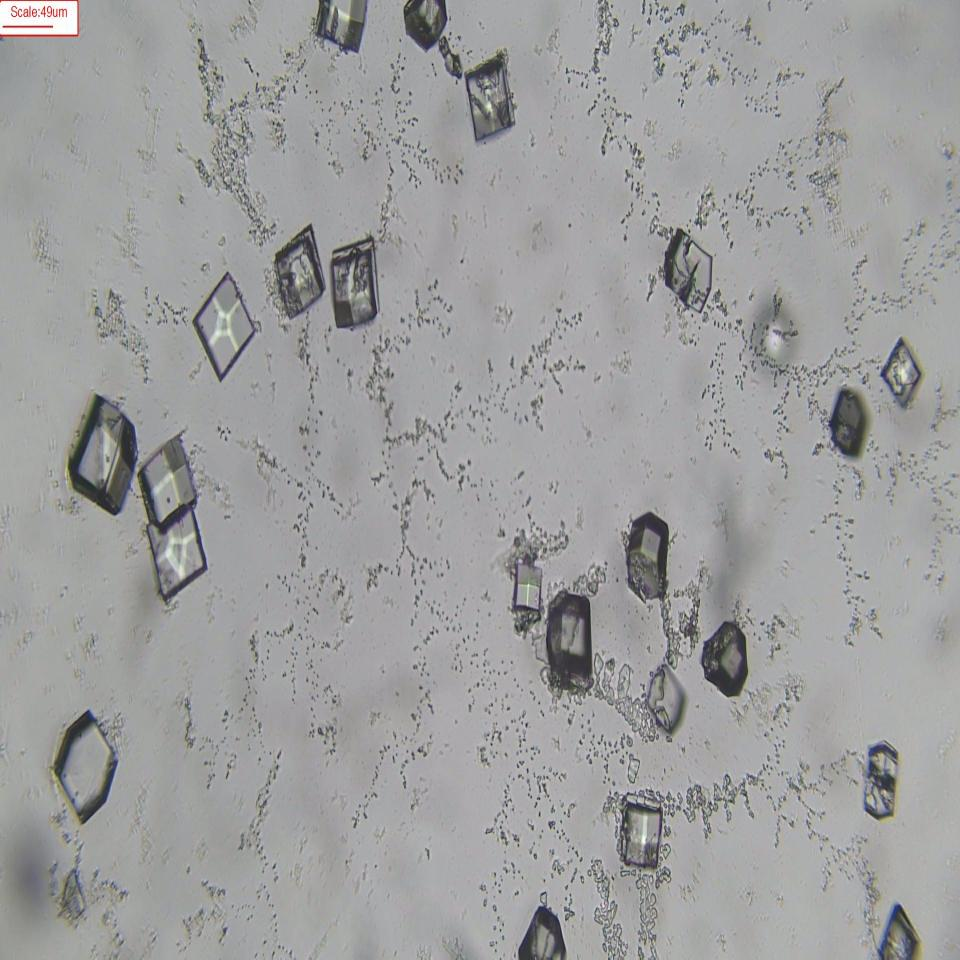crystal: (65, 389, 136, 517), (50, 707, 121, 825), (192, 281, 260, 383), (143, 506, 208, 597), (271, 222, 326, 322), (140, 435, 199, 526), (659, 226, 718, 317), (464, 51, 519, 143), (546, 587, 596, 686), (328, 241, 378, 326), (623, 508, 669, 599), (864, 738, 902, 832), (702, 624, 748, 696), (622, 796, 667, 869), (313, 0, 370, 57), (830, 395, 869, 467), (644, 665, 684, 735), (879, 343, 923, 405), (875, 901, 918, 960), (398, 0, 452, 45), (511, 554, 542, 616)
